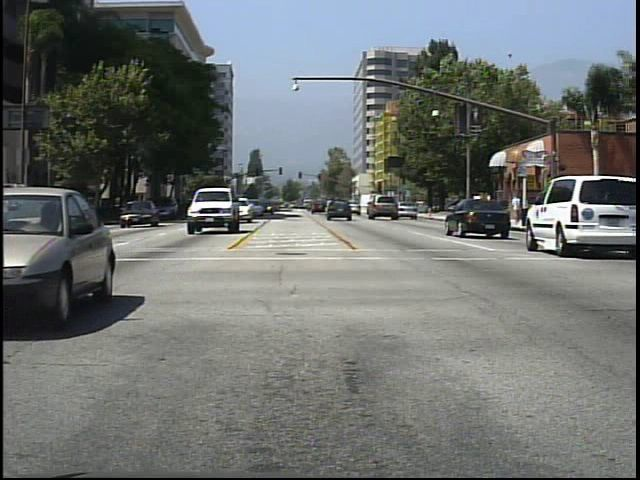person: (508, 192, 528, 231), (462, 190, 480, 226)
